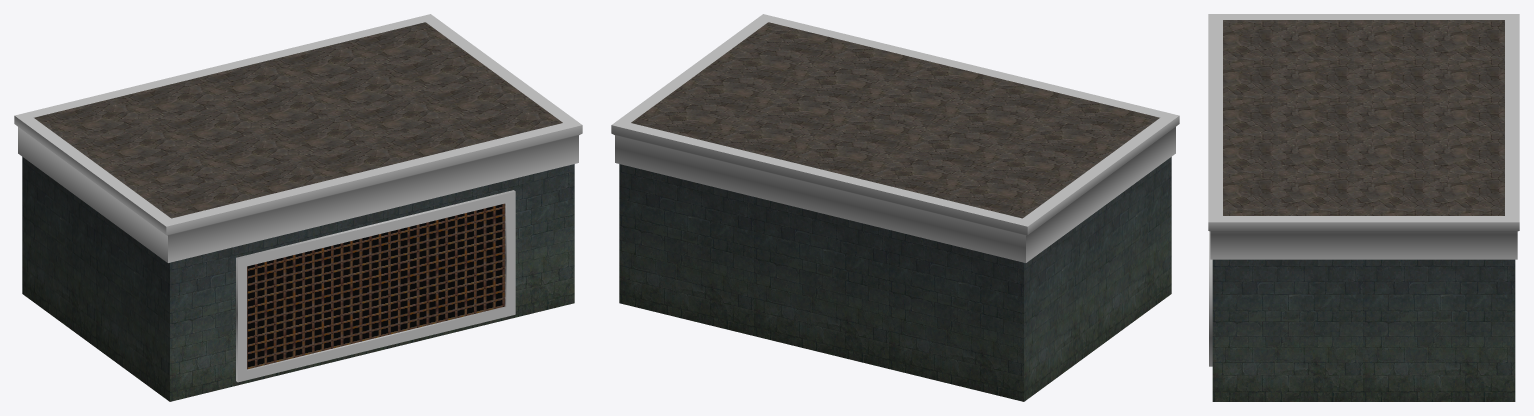
Rendered from environment_Building_yintiandalao_001_b.FBX.
3 renders of one model, left to right at view 1: azimuth 30°, elevation 25°; view 2: azimuth 150°, elevation 25°; view 3: azimuth 270°, elevation 25°, orthographic. The views are drawn at different scales.
Visible parts, largest first — view 1: environment_Building_yintiandalao_001_b01, environment_Building_yintiandalao_001_b02, environment_Building_yintiandalao_001_b05, environment_Building_yintiandalao_001_b04, environment_Building_yintiandalao_001_b03; view 2: environment_Building_yintiandalao_001_b02, environment_Building_yintiandalao_001_b01, environment_Building_yintiandalao_001_b05; view 3: environment_Building_yintiandalao_001_b01, environment_Building_yintiandalao_001_b02, environment_Building_yintiandalao_001_b05, environment_Building_yintiandalao_001_b03.
Part boxes in pixels (<box>): environment_Building_yintiandalao_001_b01: <box>34,22,562,218</box>; environment_Building_yintiandalao_001_b02: <box>22,157,574,401</box>; environment_Building_yintiandalao_001_b05: <box>14,14,582,262</box>; environment_Building_yintiandalao_001_b04: <box>247,203,505,369</box>; environment_Building_yintiandalao_001_b03: <box>236,190,515,382</box>; environment_Building_yintiandalao_001_b02: <box>619,157,1171,401</box>; environment_Building_yintiandalao_001_b01: <box>631,22,1159,218</box>; environment_Building_yintiandalao_001_b05: <box>611,14,1179,262</box>; environment_Building_yintiandalao_001_b01: <box>1223,20,1504,215</box>; environment_Building_yintiandalao_001_b02: <box>1212,259,1515,401</box>; environment_Building_yintiandalao_001_b05: <box>1208,14,1519,259</box>; environment_Building_yintiandalao_001_b03: <box>1209,231,1212,366</box>.
Size of the model in its own units: 3475 by 2195 by 1422.
